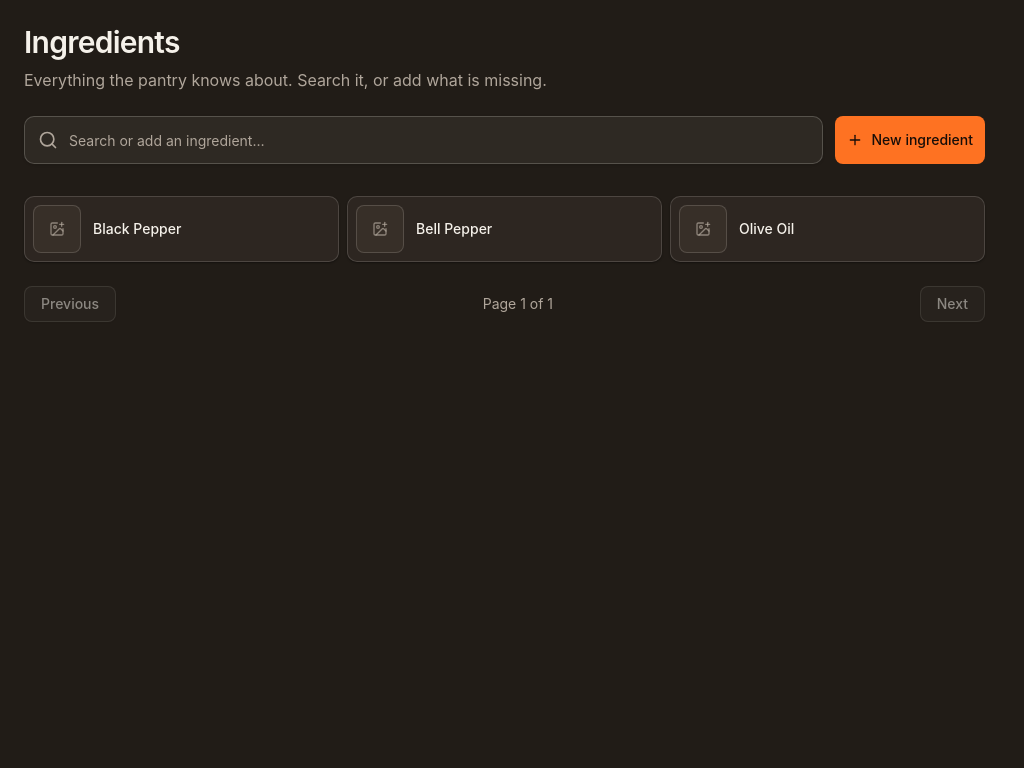
Test: IngredientListPage › rolls back an optimistic delete blocked by a recipe and reports why
Click the button "olive oil".
click(703, 229)  # box [670,196,985,262]
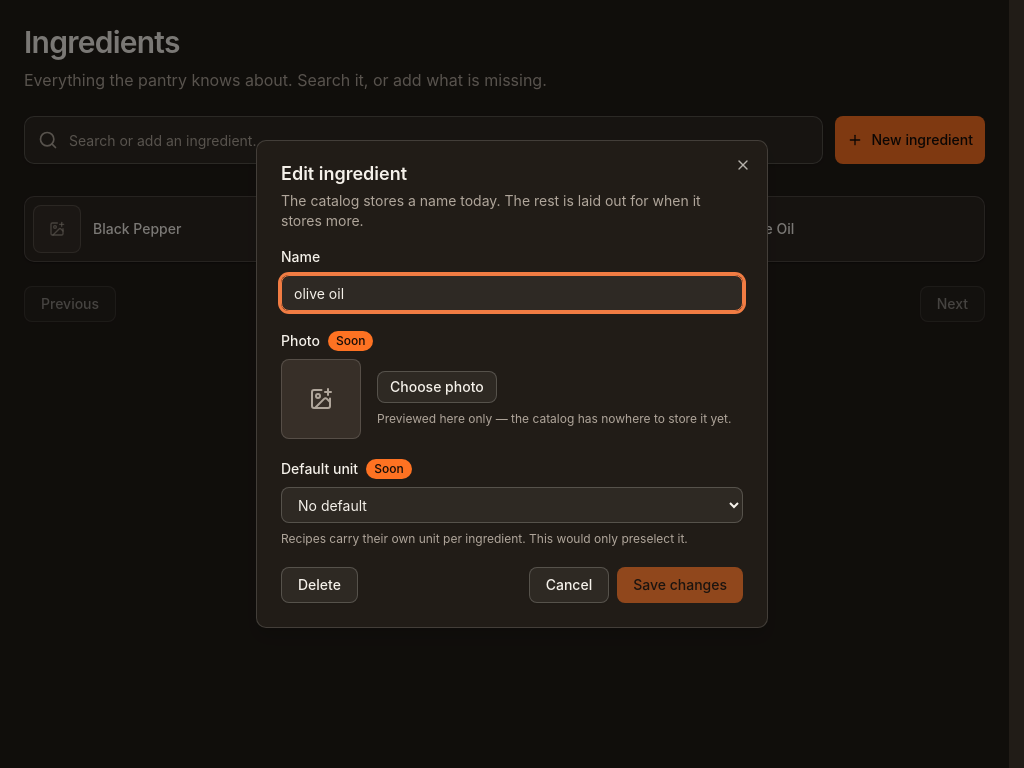
Expected: the dialog is shown, [256,140,768,628]
Click the button "Delete".
click(319, 585)  # box [281,567,358,603]
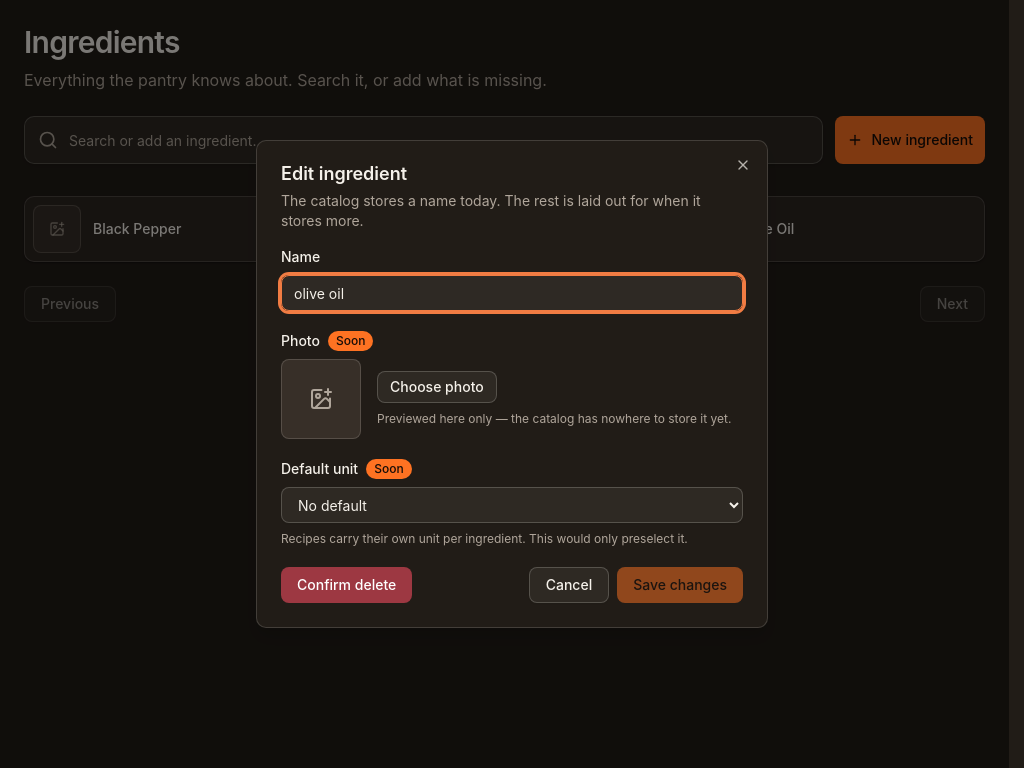
Click the button "Confirm delete".
click(347, 585)  # box [281,567,412,603]
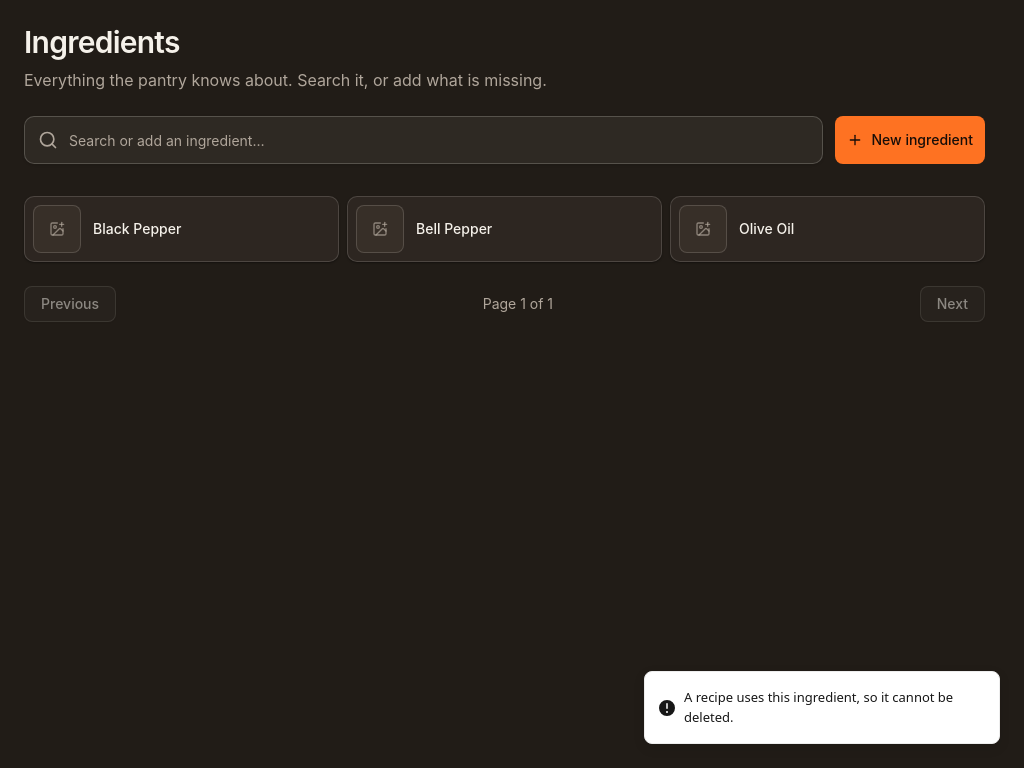
Expected: the text "olive oil" is shown, [739,220,794,237]
Expected: the text "A recipe uses this ingredient, so it cannot be deleted." is shown, [684,688,983,727]
